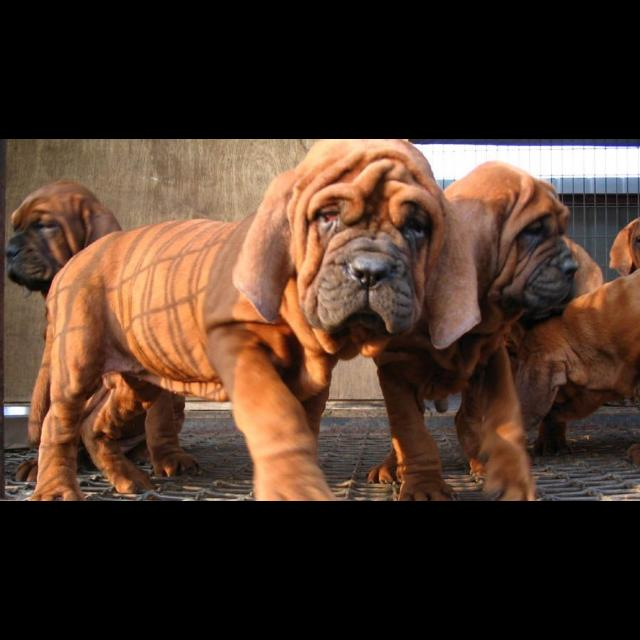dogue_de_bordeaux: (16, 141, 452, 502), (366, 161, 604, 502), (5, 180, 201, 494)
